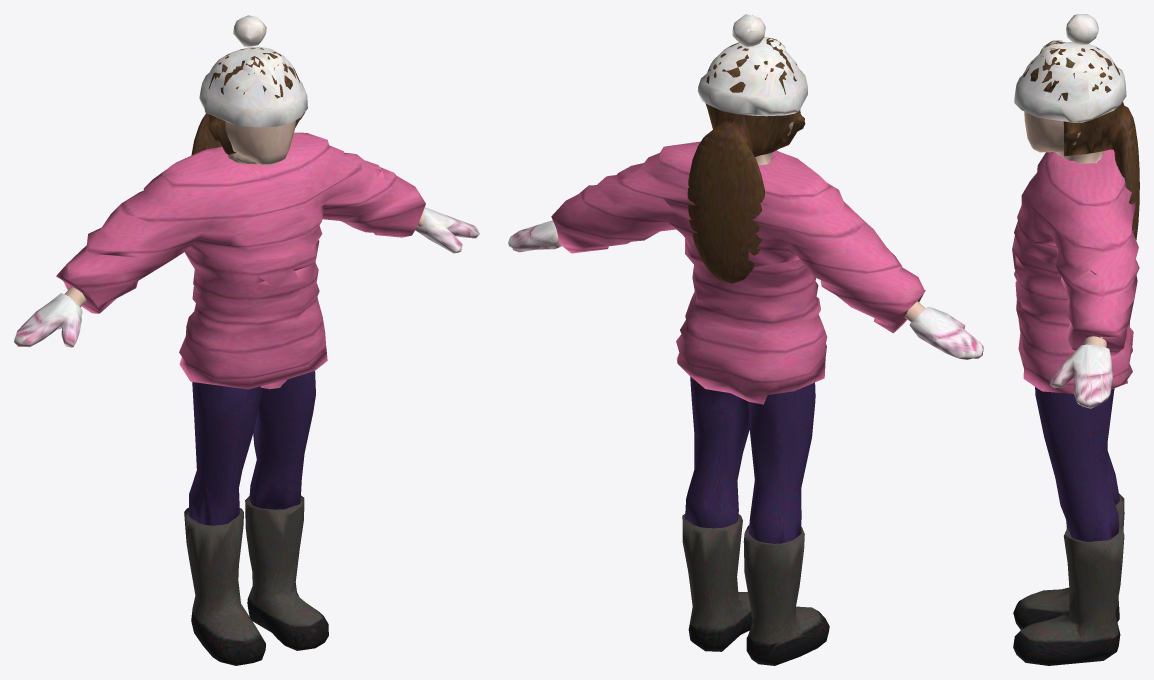
The model's file is npc_x_girl_w2.glb.
The picture shows the model from 3 angles, left to right: view 1: azimuth 30°, elevation 25°; view 2: azimuth 150°, elevation 25°; view 3: azimuth 270°, elevation 25°; orthographic projection. The views are drawn at different scales.
Parts seen in each view (by area): view 1: Human; view 2: Human; view 3: Human.
Part boxes in pixels (x1=…): Human: x1=14, y1=15, x2=479, y2=665; Human: x1=508, y1=14, x2=983, y2=665; Human: x1=1012, y1=14, x2=1139, y2=665.
Bounding box in the file's own units: 1.14 × 1.45 × 0.2693.
Materials: 1 (1 with a texture image).
